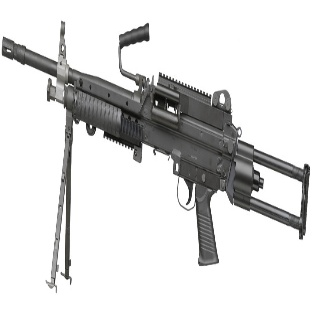rifle: (2, 20, 312, 287)
